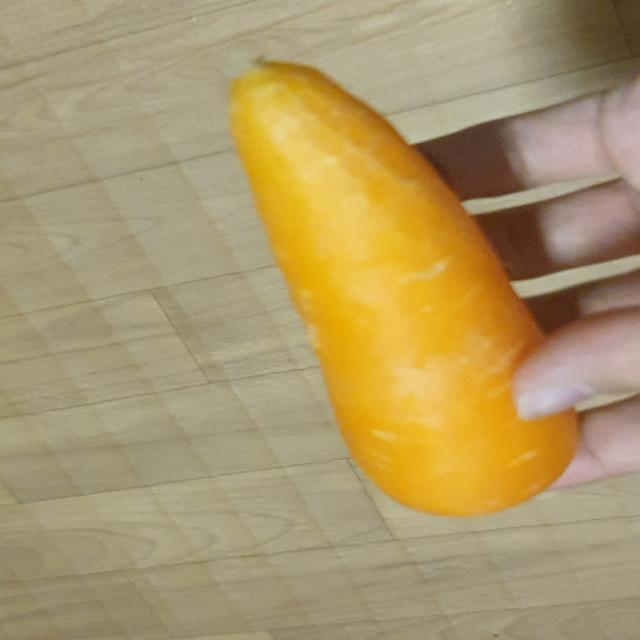Carrot: (198, 47, 593, 524)
